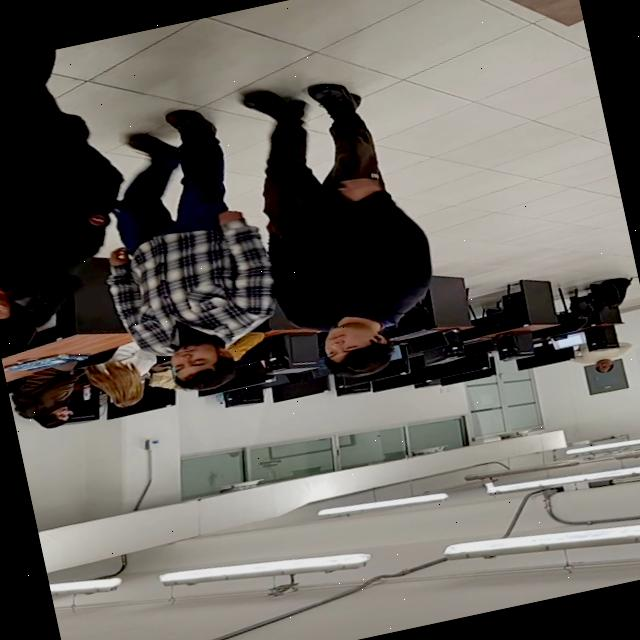Persona: (227, 61, 456, 393), (76, 94, 298, 405), (0, 39, 162, 358)
